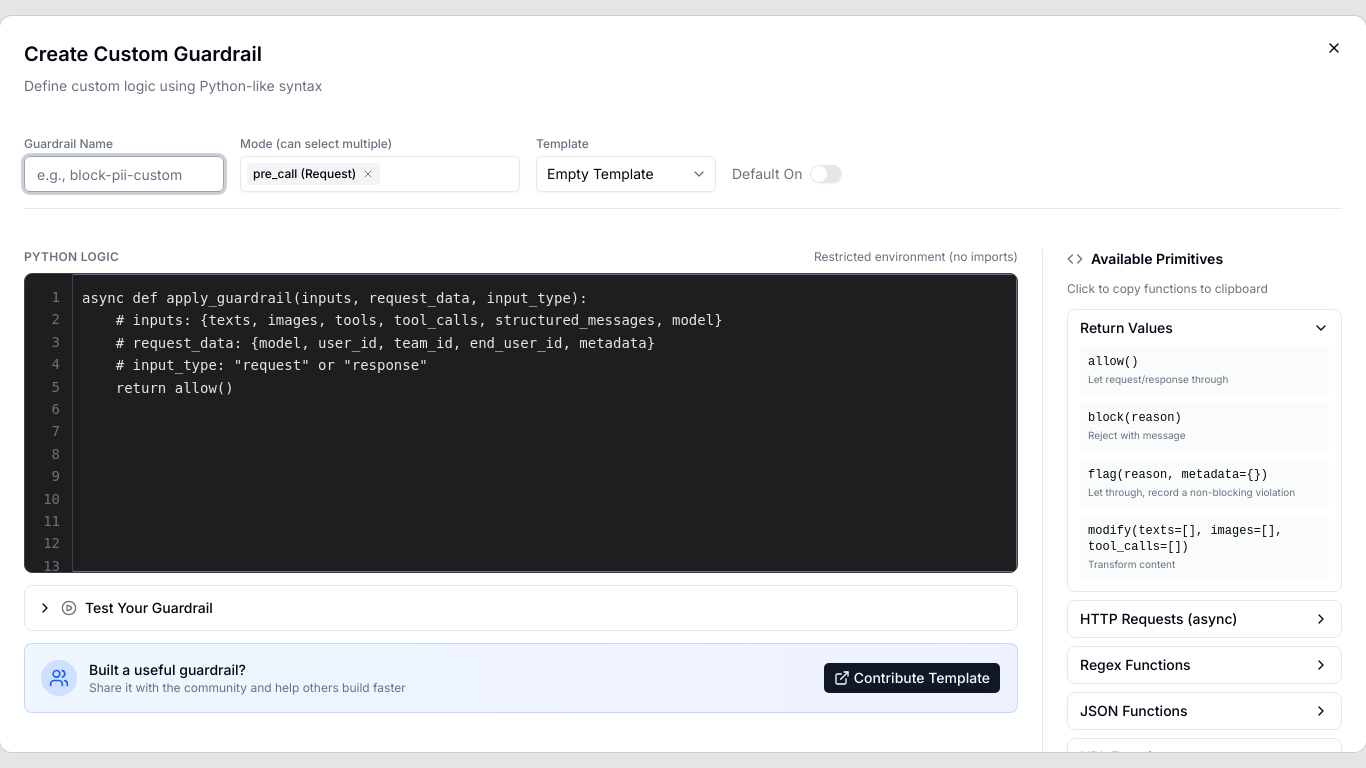
CustomCodeModal › should surface a backend test error
Click the button "Test Your Guardrail" at (149, 608), box [25,586,1017,630]
(page scrolled)
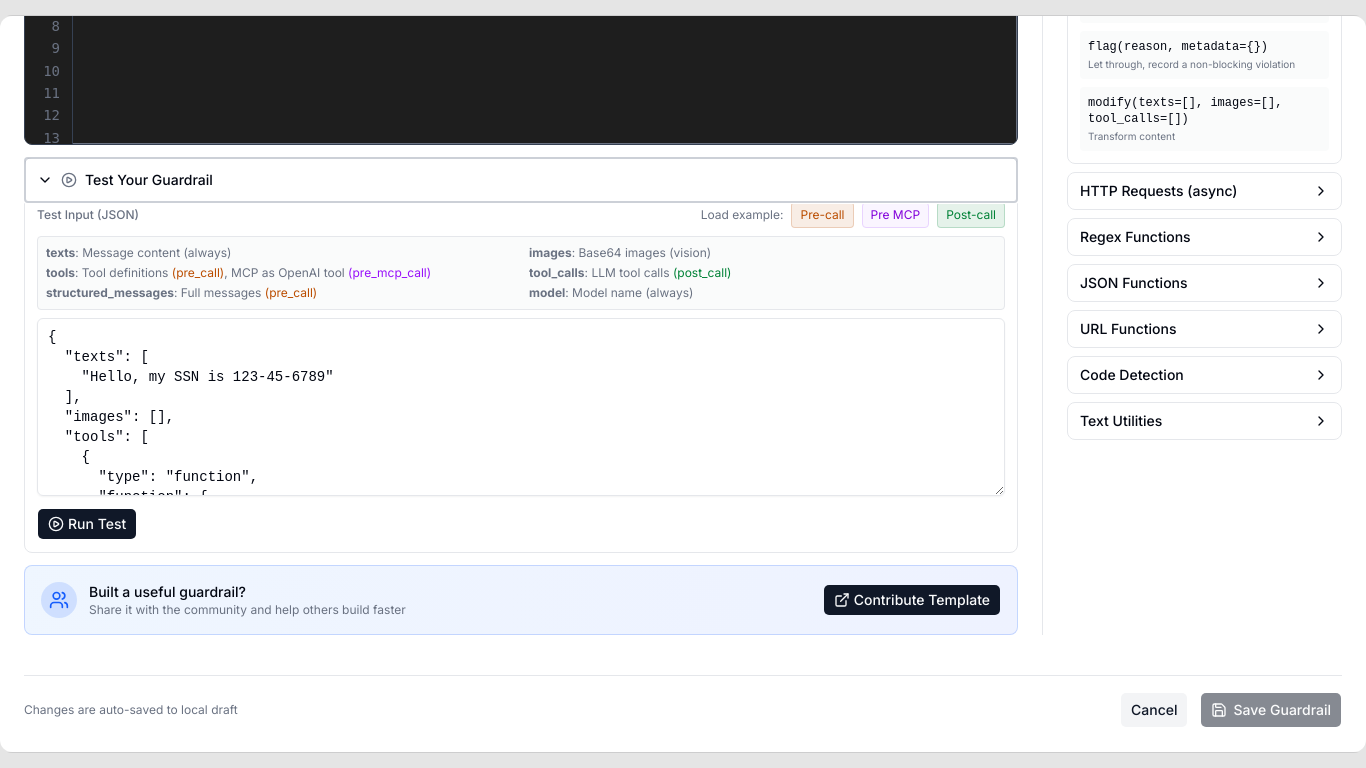
Click the button "Run Test" at (87, 524), box [37,508,137,540]
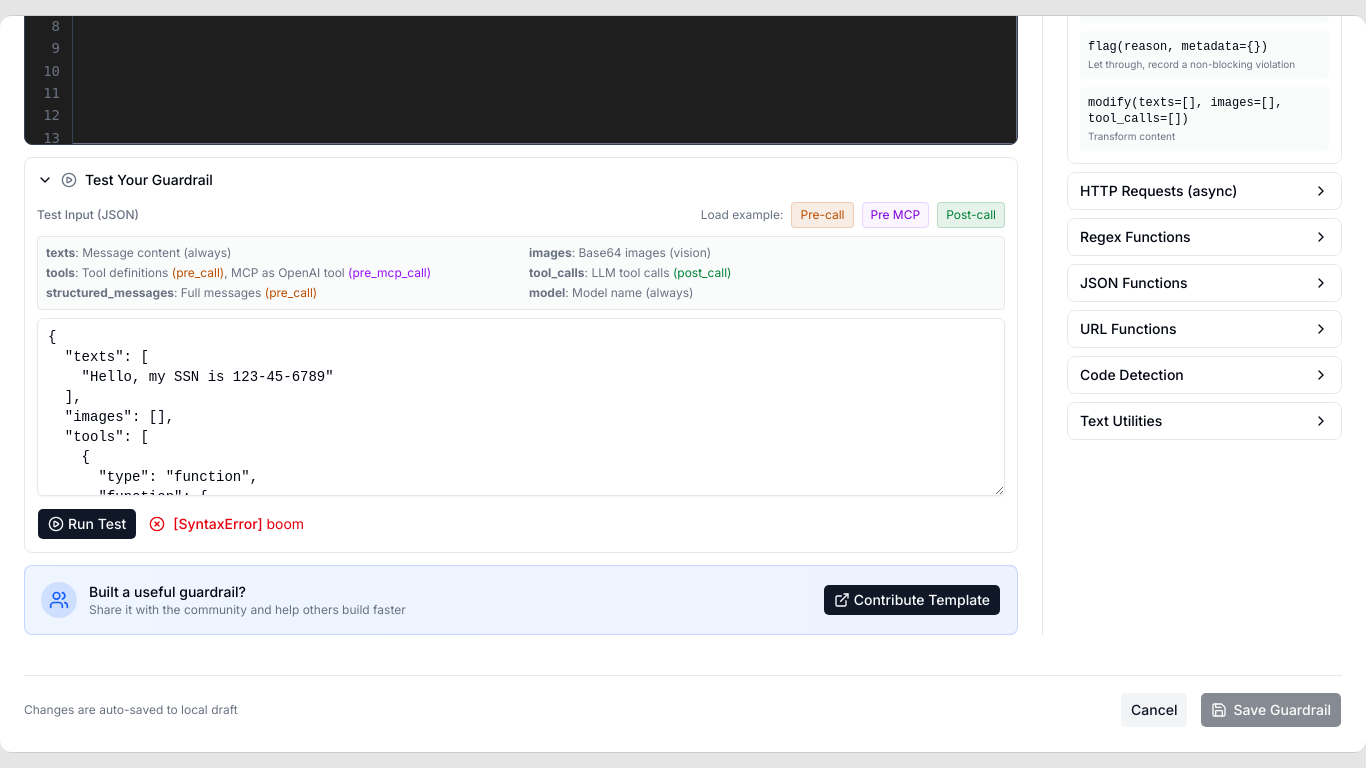
Result: the text "boom" is shown at [266,515,304,532]
Result: the text "[SyntaxError]" is shown at [173,515,266,532]
